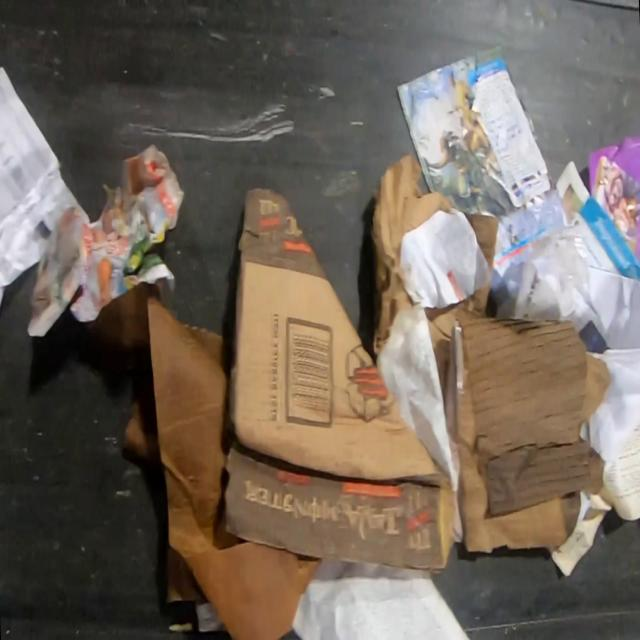cardboard: (223, 188, 452, 569), (94, 287, 320, 640), (444, 316, 609, 554), (370, 152, 458, 355), (425, 281, 491, 405), (465, 211, 500, 276)
soft_plastic: (511, 234, 592, 333)
